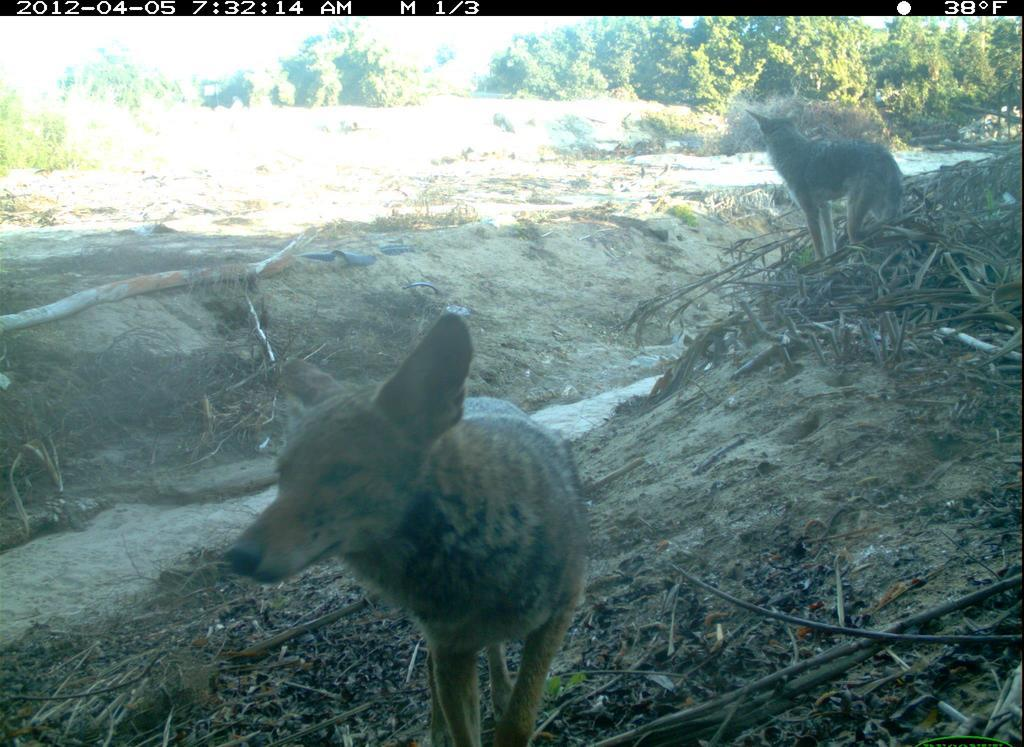coyote: (213, 301, 599, 747), (739, 99, 917, 274)
